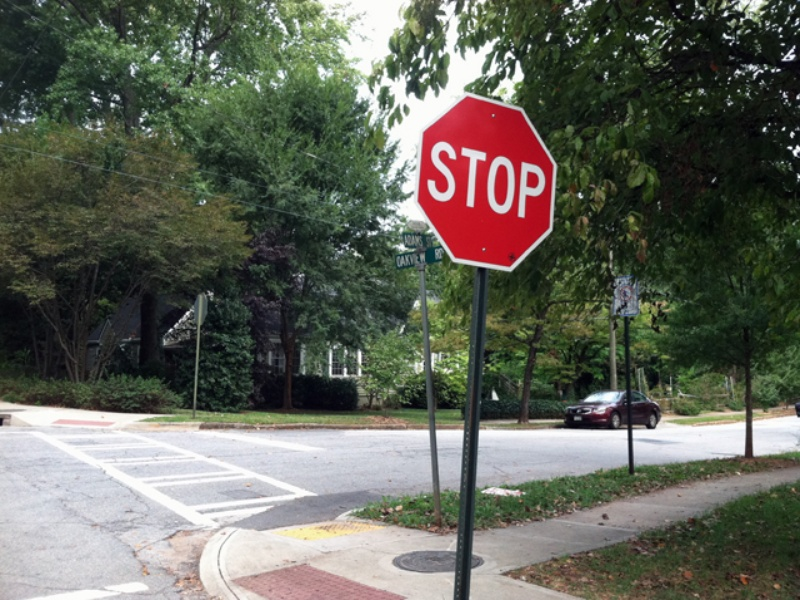stop sign: (413, 91, 564, 278)
